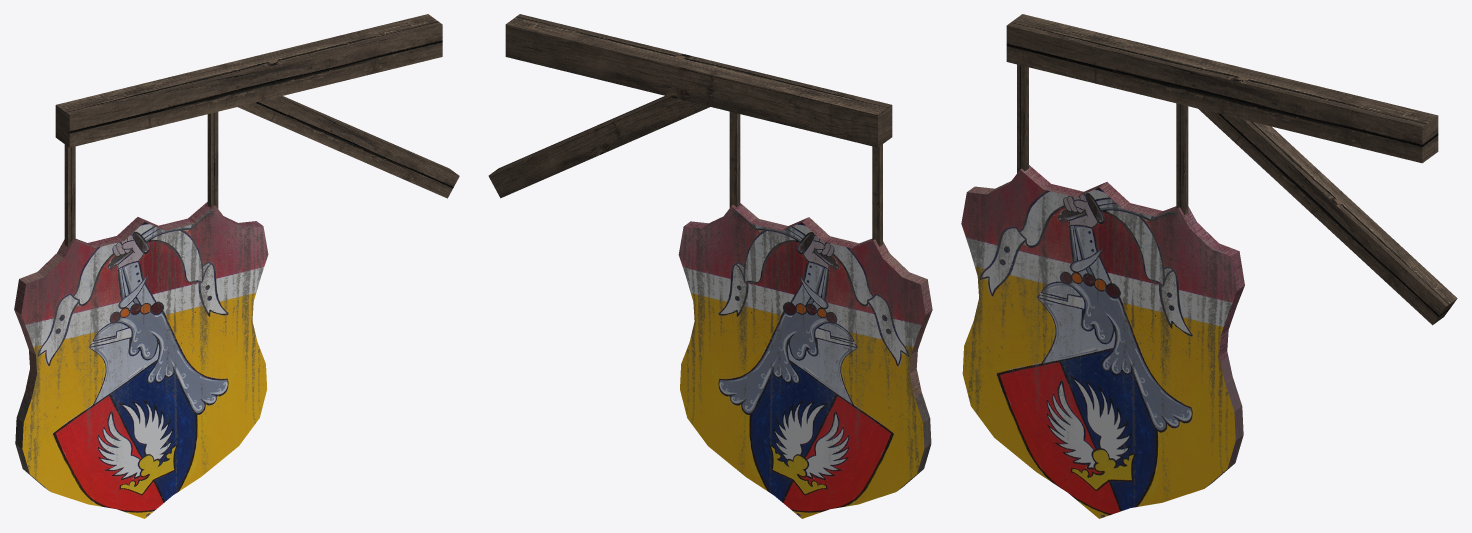
The model's file is f1_shield03.dae.
The picture shows the model from 3 angles, left to right: view 1: azimuth 30°, elevation 25°; view 2: azimuth 150°, elevation 25°; view 3: azimuth 330°, elevation 25°; orthographic projection. The views are drawn at different scales.
Visible parts, largest first — view 1: f1_shield03_Layer1; view 2: f1_shield03_Layer1; view 3: f1_shield03_Layer1.
Part boxes in pixels (x1=…): f1_shield03_Layer1: x1=14, y1=14, x2=459, y2=518; f1_shield03_Layer1: x1=488, y1=14, x2=932, y2=518; f1_shield03_Layer1: x1=961, y1=14, x2=1457, y2=518.
Bounding box in the file's own units: 1.19 × 1.11 × 0.0671.
